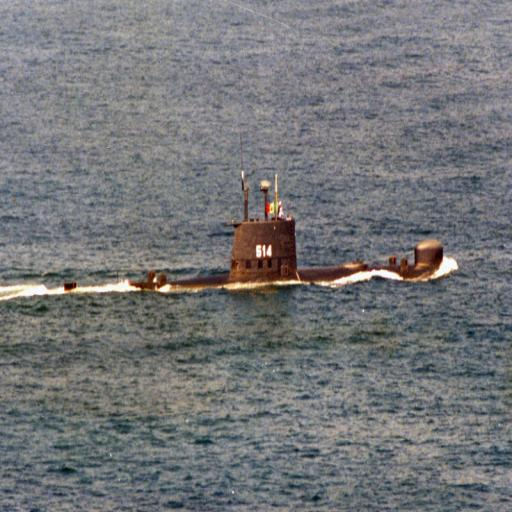submarine: (61, 161, 446, 294)
